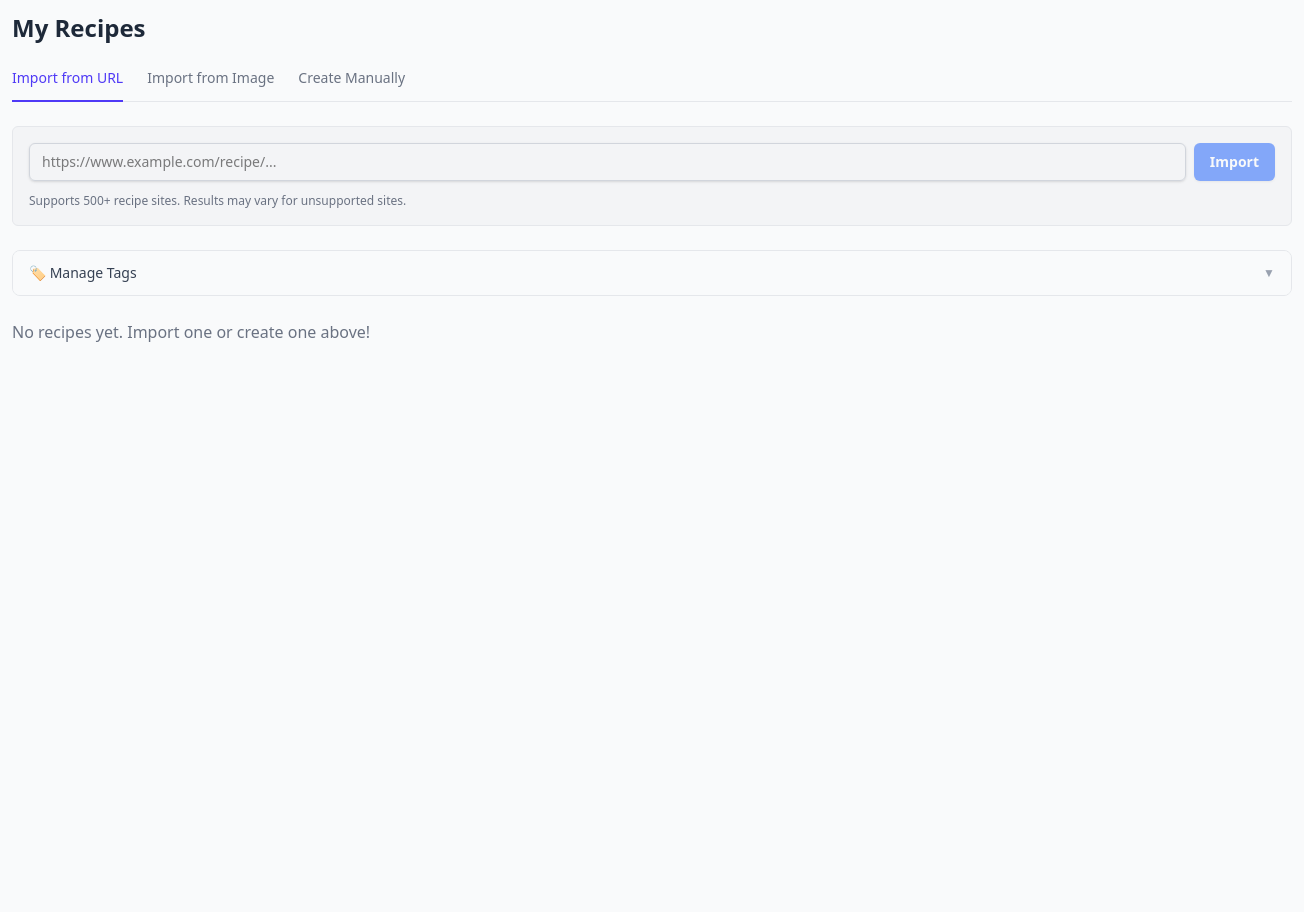
Scenario: RecipesPage › ingredient rows can be added and removed in manual form
The image size is (1304, 912).
Check: the text "No recipes yet. Import one or create one above!" is shown, box [12,321,370,343]
Click the button "Create Manually": [352, 85] box [298,68,405,102]
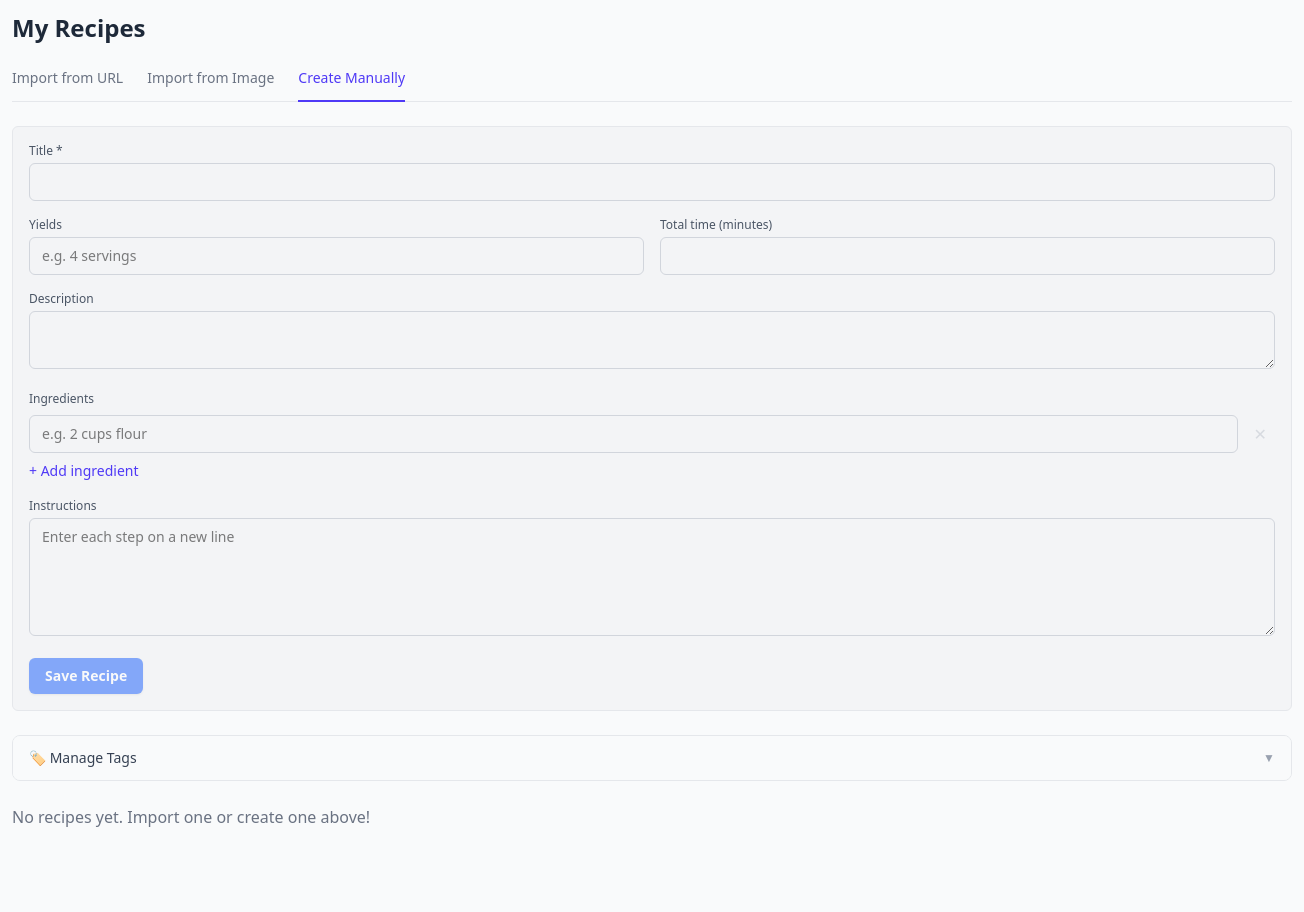
Check: the number of fields with placeholder "e.g. 2 cups flour" is 1, box [29,415,1238,453]
Click the button "+ Add ingredient": [84, 471] box [29,461,139,481]
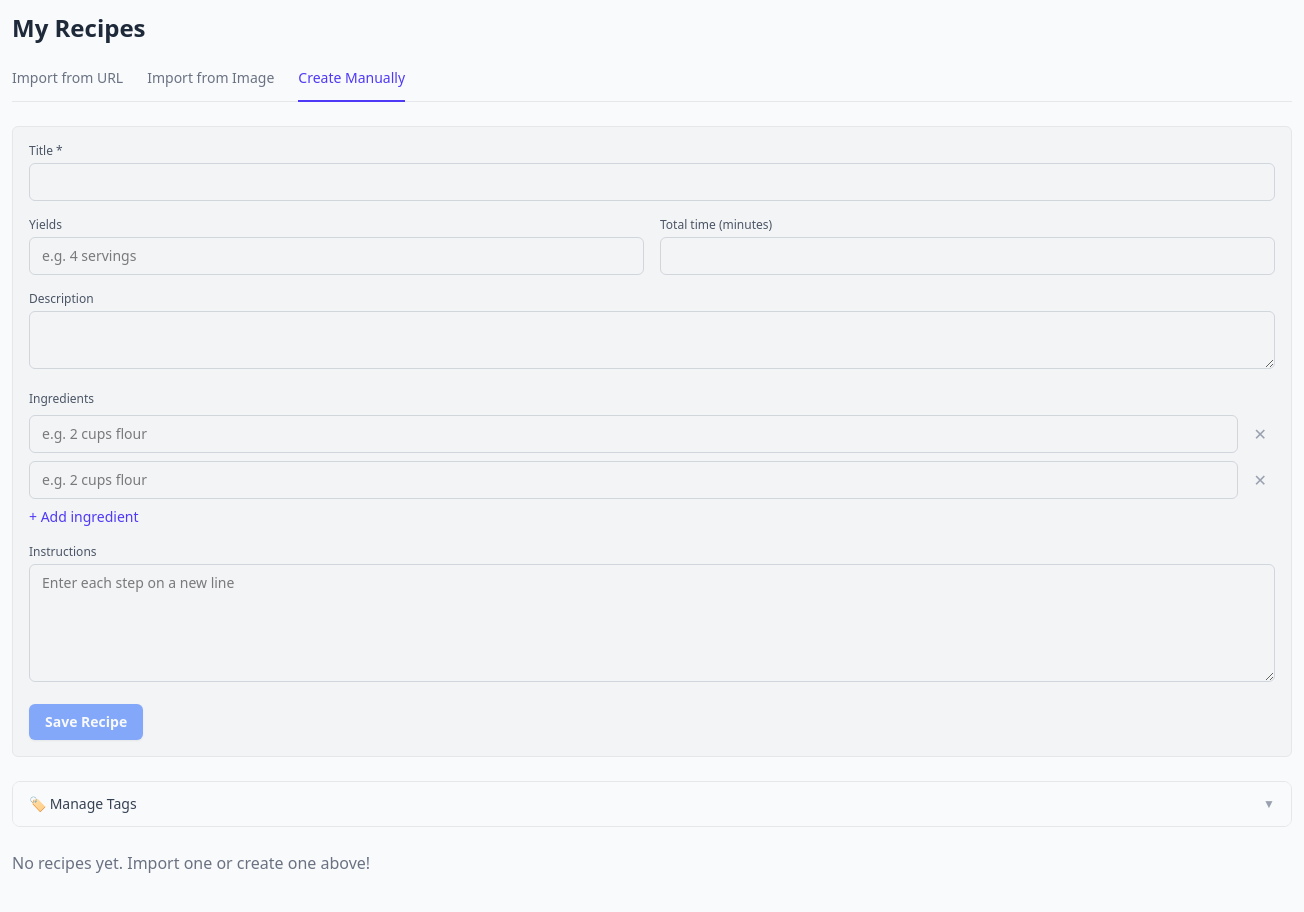
Check: the number of fields with placeholder "e.g. 2 cups flour" is 2, box [29,415,1238,453]; [29,461,1238,499]
Click the button named "remove ingredient": [1260, 434] box [1246,415,1275,453]
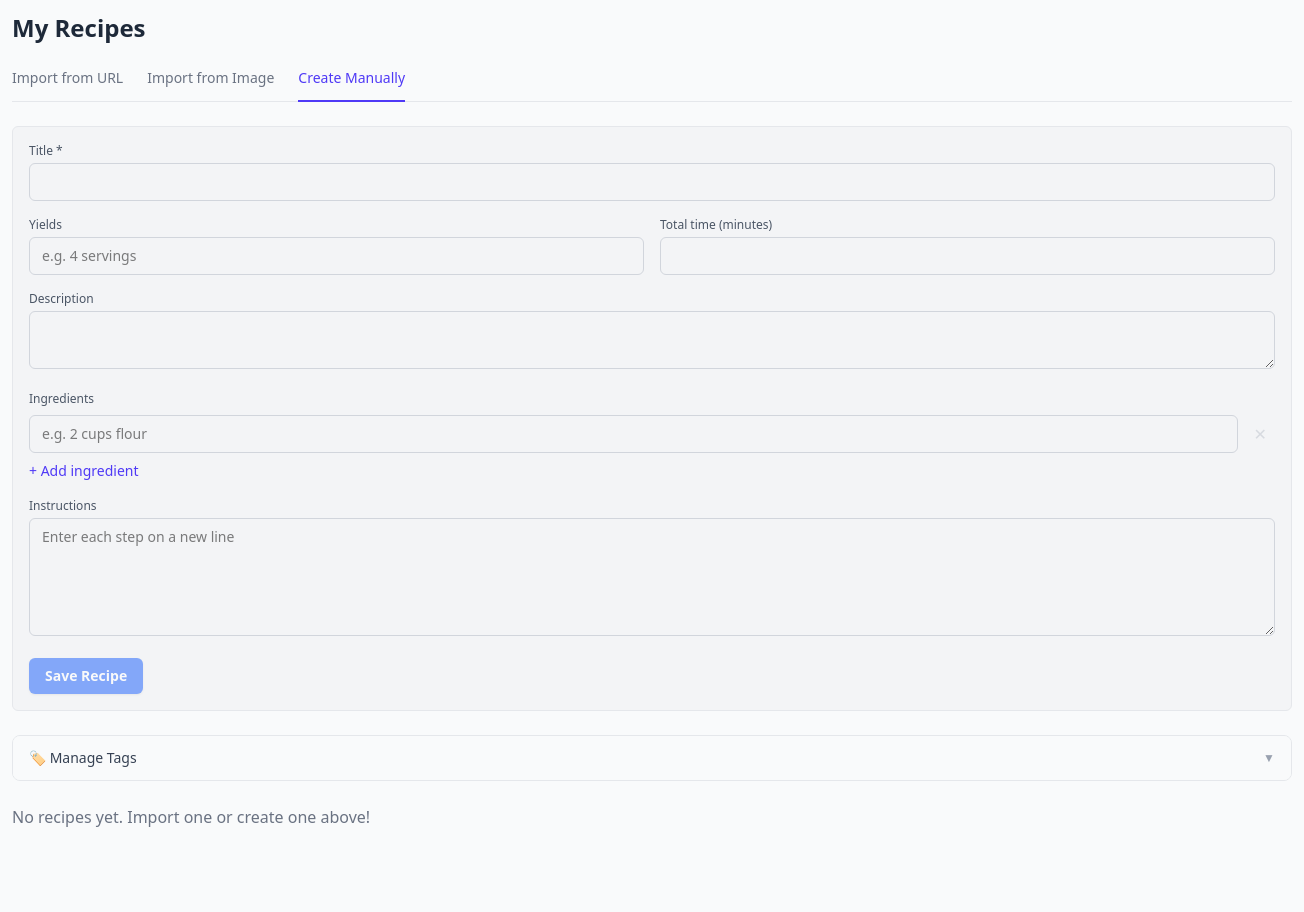
Check: the number of fields with placeholder "e.g. 2 cups flour" is 1, box [29,415,1238,453]
